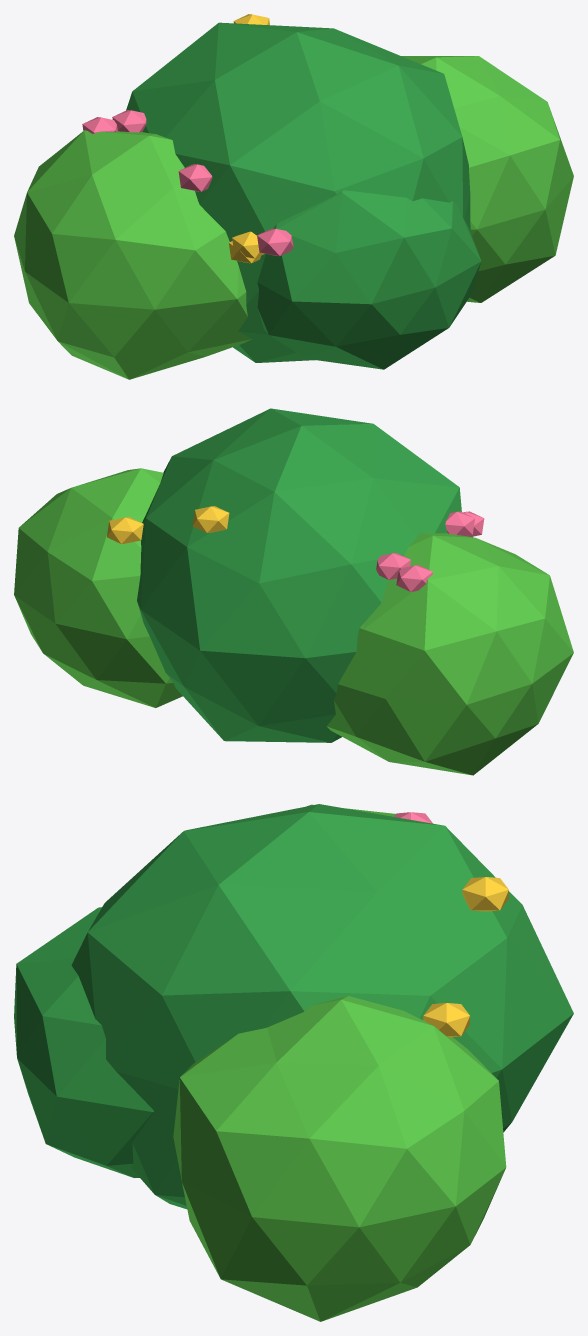
File: bush_b.glb
3 views of the same model, one above another, from view 1: azimuth 30°, elevation 25°; view 2: azimuth 150°, elevation 25°; view 3: azimuth 270°, elevation 25° (orthographic). The views are drawn at different scales.
Visible parts, largest first — view 1: bush_b; view 2: bush_b; view 3: bush_b.
Part boxes in pixels (x1,y1,x2,y2): bush_b: (14, 14, 573, 379); bush_b: (14, 408, 573, 775); bush_b: (14, 804, 573, 1321).
Bounding box in the file's own units: 2.42 × 1.29 × 1.73.
